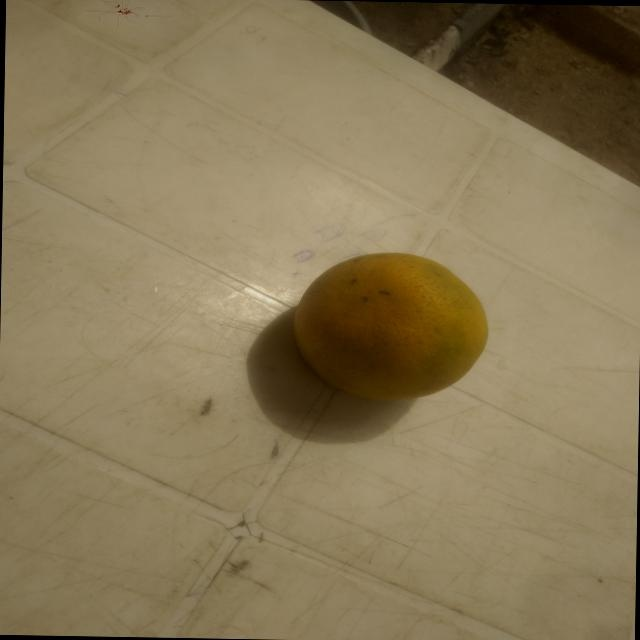agrume: (280, 247, 496, 405)
